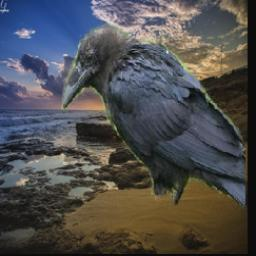Crow: (62, 23, 247, 210)
